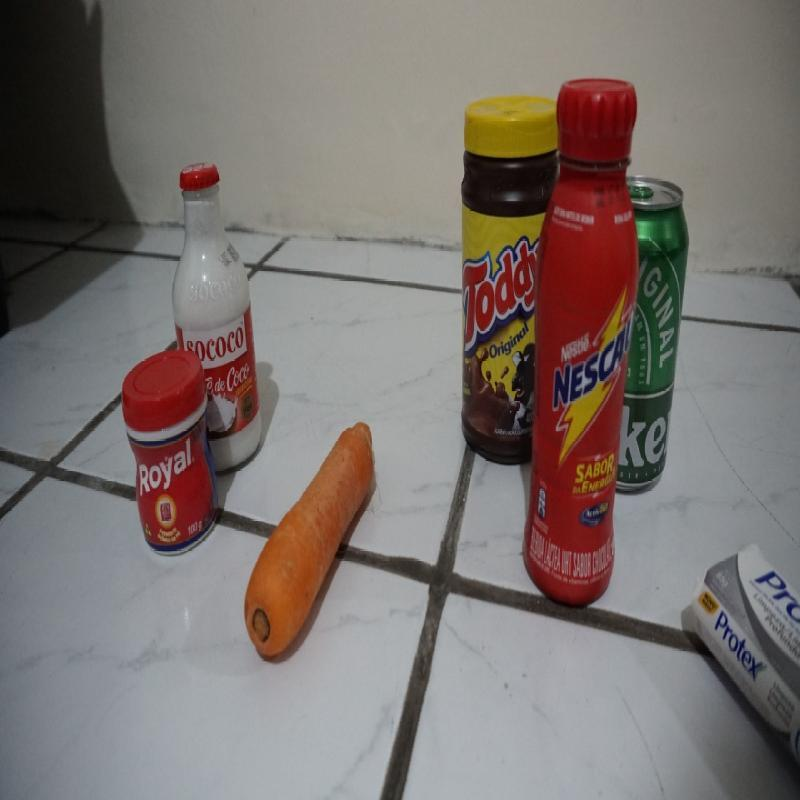Beer can: (632, 166, 685, 507)
Carrot: (240, 398, 393, 672)
Chocolate Milk: (539, 69, 628, 602)
Chocolate Powder: (461, 76, 545, 462)
Coconut Milk: (179, 159, 270, 448)
Soap: (689, 543, 800, 756)
Yeast: (122, 346, 212, 557)
